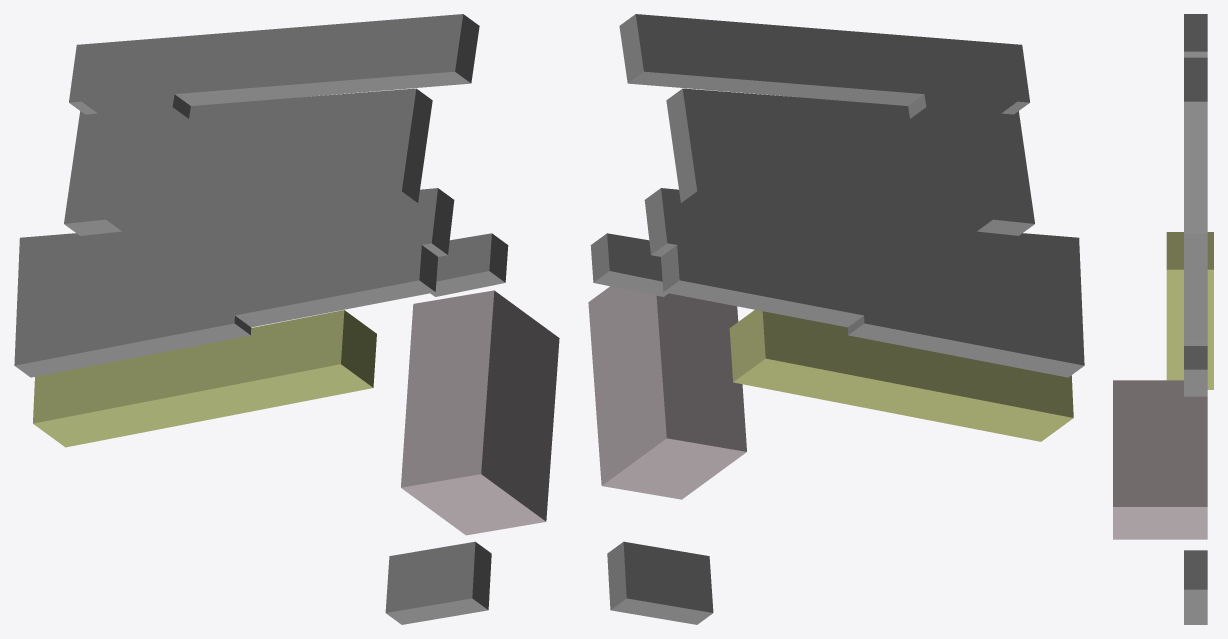
The picture shows the model from 3 angles, left to right: view 1: azimuth 30°, elevation 25°; view 2: azimuth 150°, elevation 25°; view 3: azimuth 270°, elevation 25°; orthographic projection. The views are drawn at different scales.
Visible parts, largest first — view 1: 0_3_0_2_1_2_2_0; view 2: 0_3_0_2_1_2_2_0; view 3: 0_3_0_2_1_2_2_0.
Boxes of the visible parts, left/top/right/bottom form: 0_3_0_2_1_2_2_0: left=14, top=14, right=559, bottom=624; 0_3_0_2_1_2_2_0: left=588, top=14, right=1084, bottom=624; 0_3_0_2_1_2_2_0: left=1113, top=14, right=1213, bottom=624.
Bounding box in the file's own units: 50.98 × 65.99 × 12.8.
